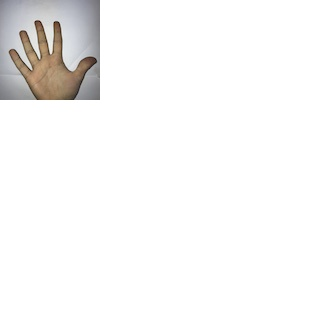paper: (7, 17, 96, 99)
